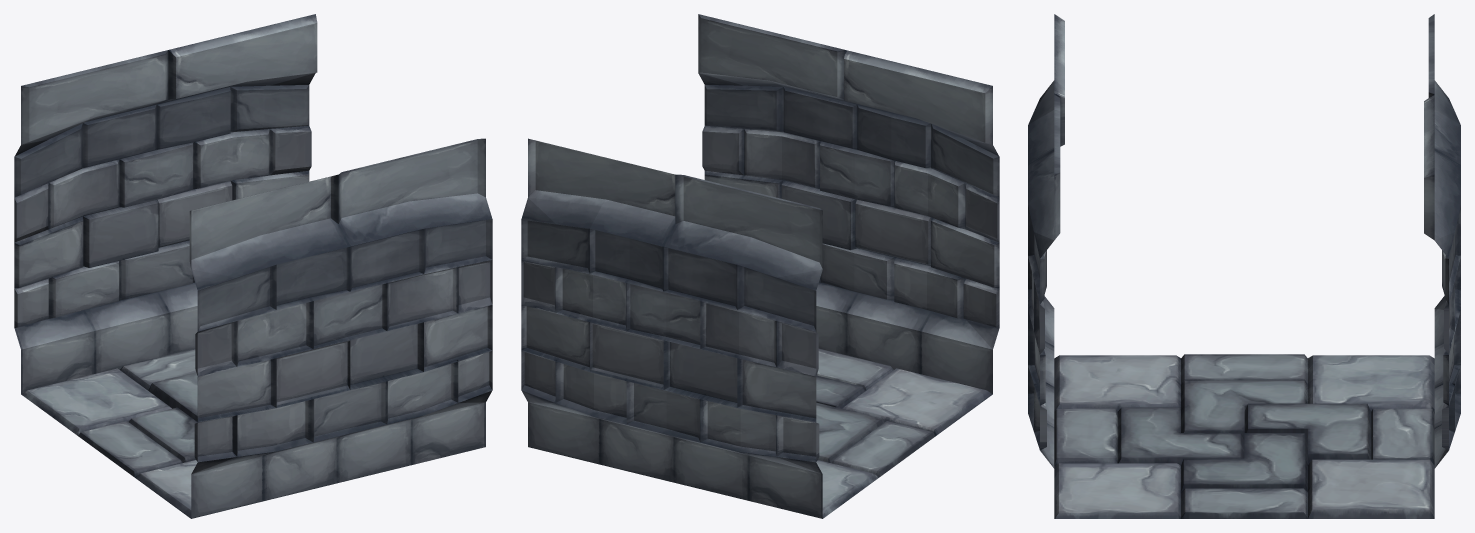
The model's file is GFTemple_Corridor1.fbx.
3 renders of one model, left to right at view 1: azimuth 30°, elevation 25°; view 2: azimuth 150°, elevation 25°; view 3: azimuth 270°, elevation 25°, orthographic. The views are drawn at different scales.
Visible parts, largest first — view 1: GFTemple_Wall40, GFTemple_Wall39, GFTemple_Floor21; view 2: GFTemple_Wall39, GFTemple_Wall40, GFTemple_Floor21; view 3: GFTemple_Floor21, GFTemple_Wall39, GFTemple_Wall40.
Part boxes in pixels (x1,y1,x2,y2): GFTemple_Wall40: (189,138,492,518); GFTemple_Wall39: (14,14,317,393); GFTemple_Floor21: (21,348,197,518); GFTemple_Wall39: (521,138,822,518); GFTemple_Wall40: (698,14,999,393); GFTemple_Floor21: (816,348,992,518); GFTemple_Floor21: (1054,354,1434,518); GFTemple_Wall39: (1424,14,1460,468); GFTemple_Wall40: (1028,14,1064,468).
Bounding box in the file's own units: 4 × 4 × 4.55.
